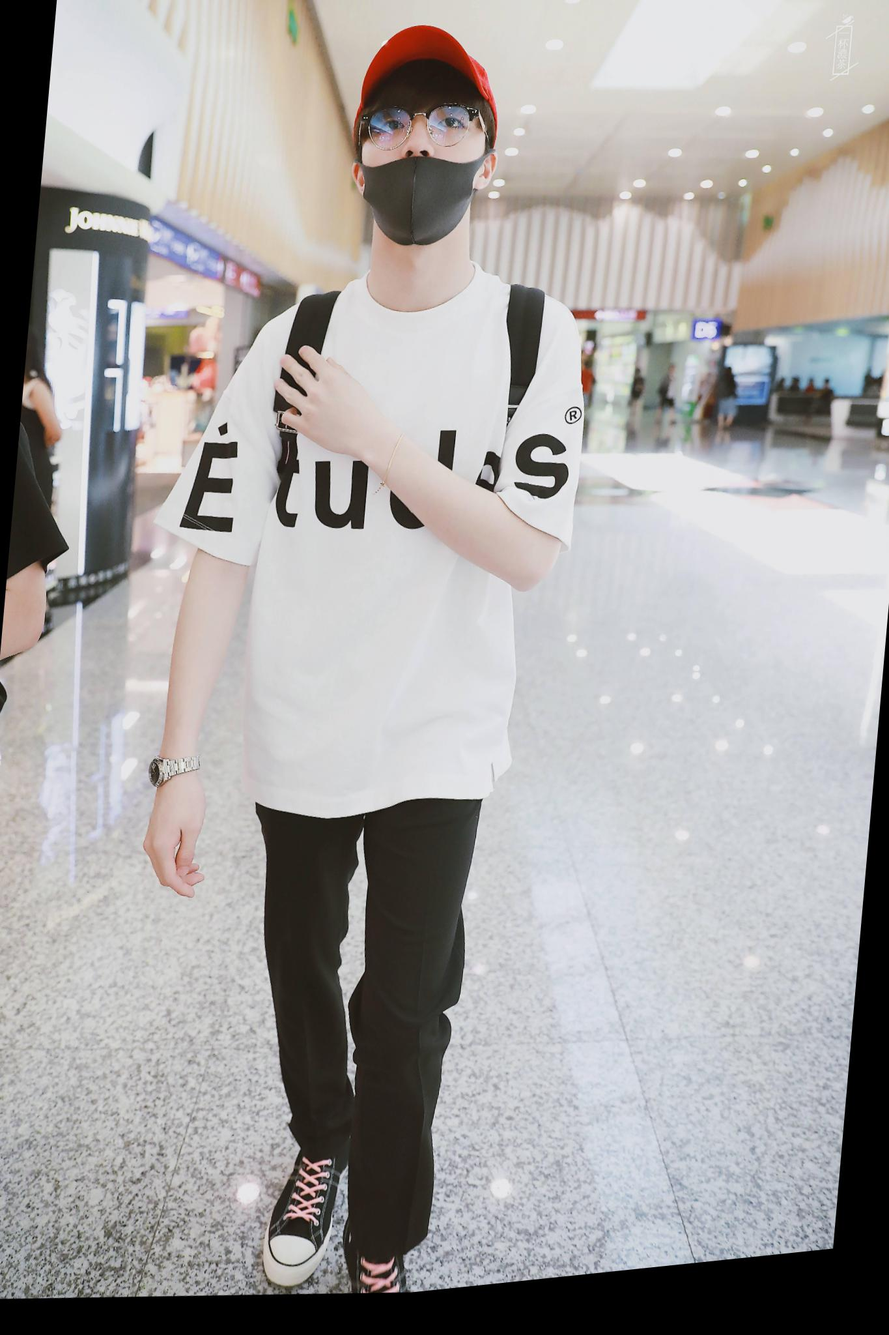WRONG: (359, 91, 484, 267)
